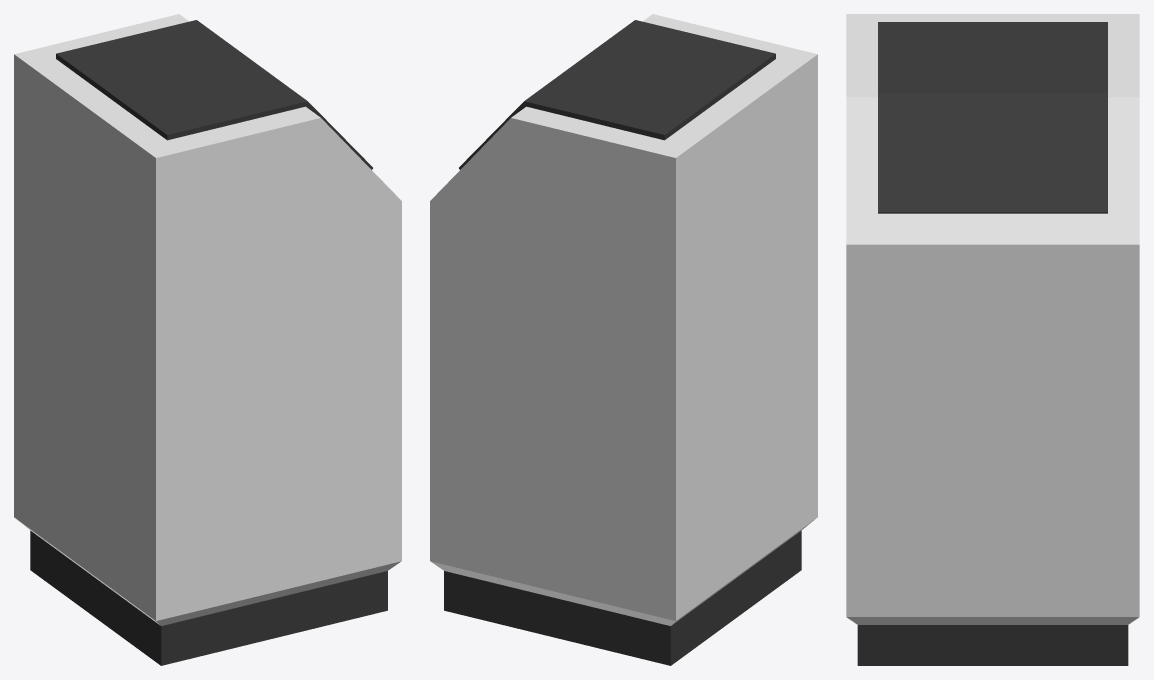
File: Bin.fbx
3 renders of one model, left to right at view 1: azimuth 30°, elevation 25°; view 2: azimuth 150°, elevation 25°; view 3: azimuth 270°, elevation 25°, orthographic. The views are drawn at different scales.
Parts seen in each view (by area): view 1: Cube; view 2: Cube; view 3: Cube.
Boxes of the visible parts, <box> form: Cube: <box>14,14,401,665</box>; Cube: <box>430,14,817,665</box>; Cube: <box>846,14,1139,665</box>.
Bounding box in the file's own units: 50 × 101 × 50.
